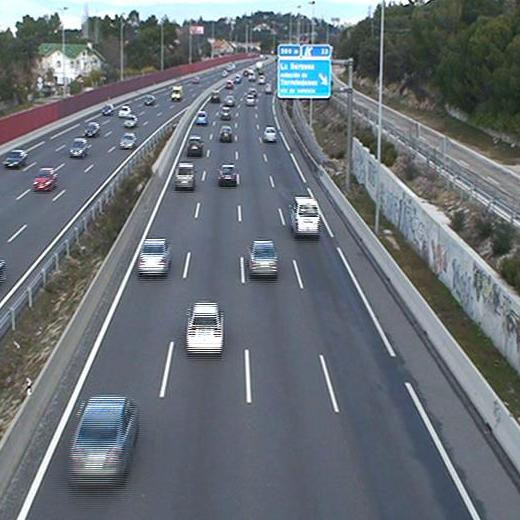car: (69, 396, 138, 486), (184, 303, 225, 353), (137, 238, 170, 274), (247, 240, 279, 277), (174, 162, 194, 189), (218, 163, 237, 183), (187, 135, 203, 155), (219, 124, 233, 141), (195, 110, 210, 124), (264, 127, 276, 140), (220, 106, 231, 119)
van: (290, 196, 319, 235)
